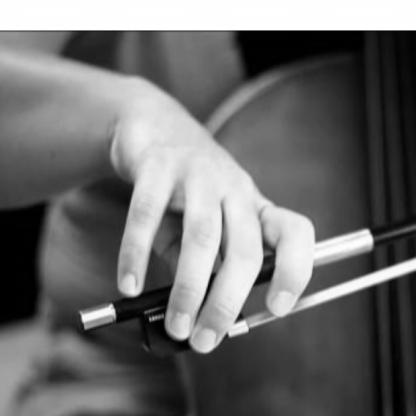bad: (105, 147, 326, 358)
